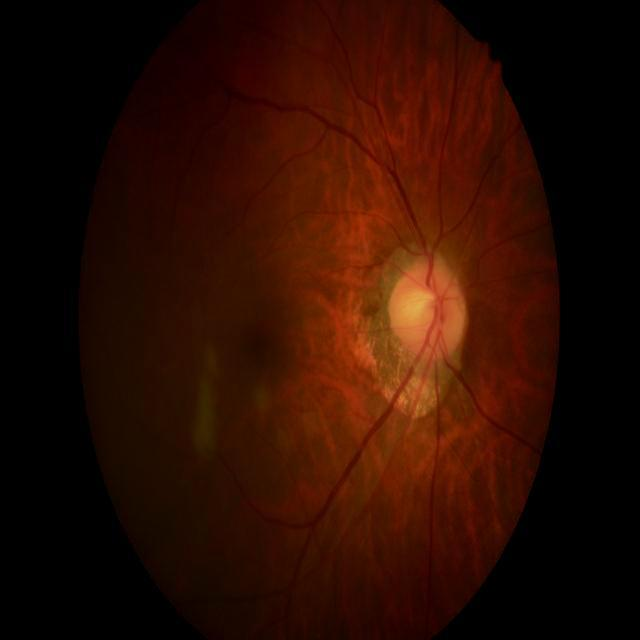cup: (408, 280, 444, 342)
disk: (390, 253, 468, 362)
